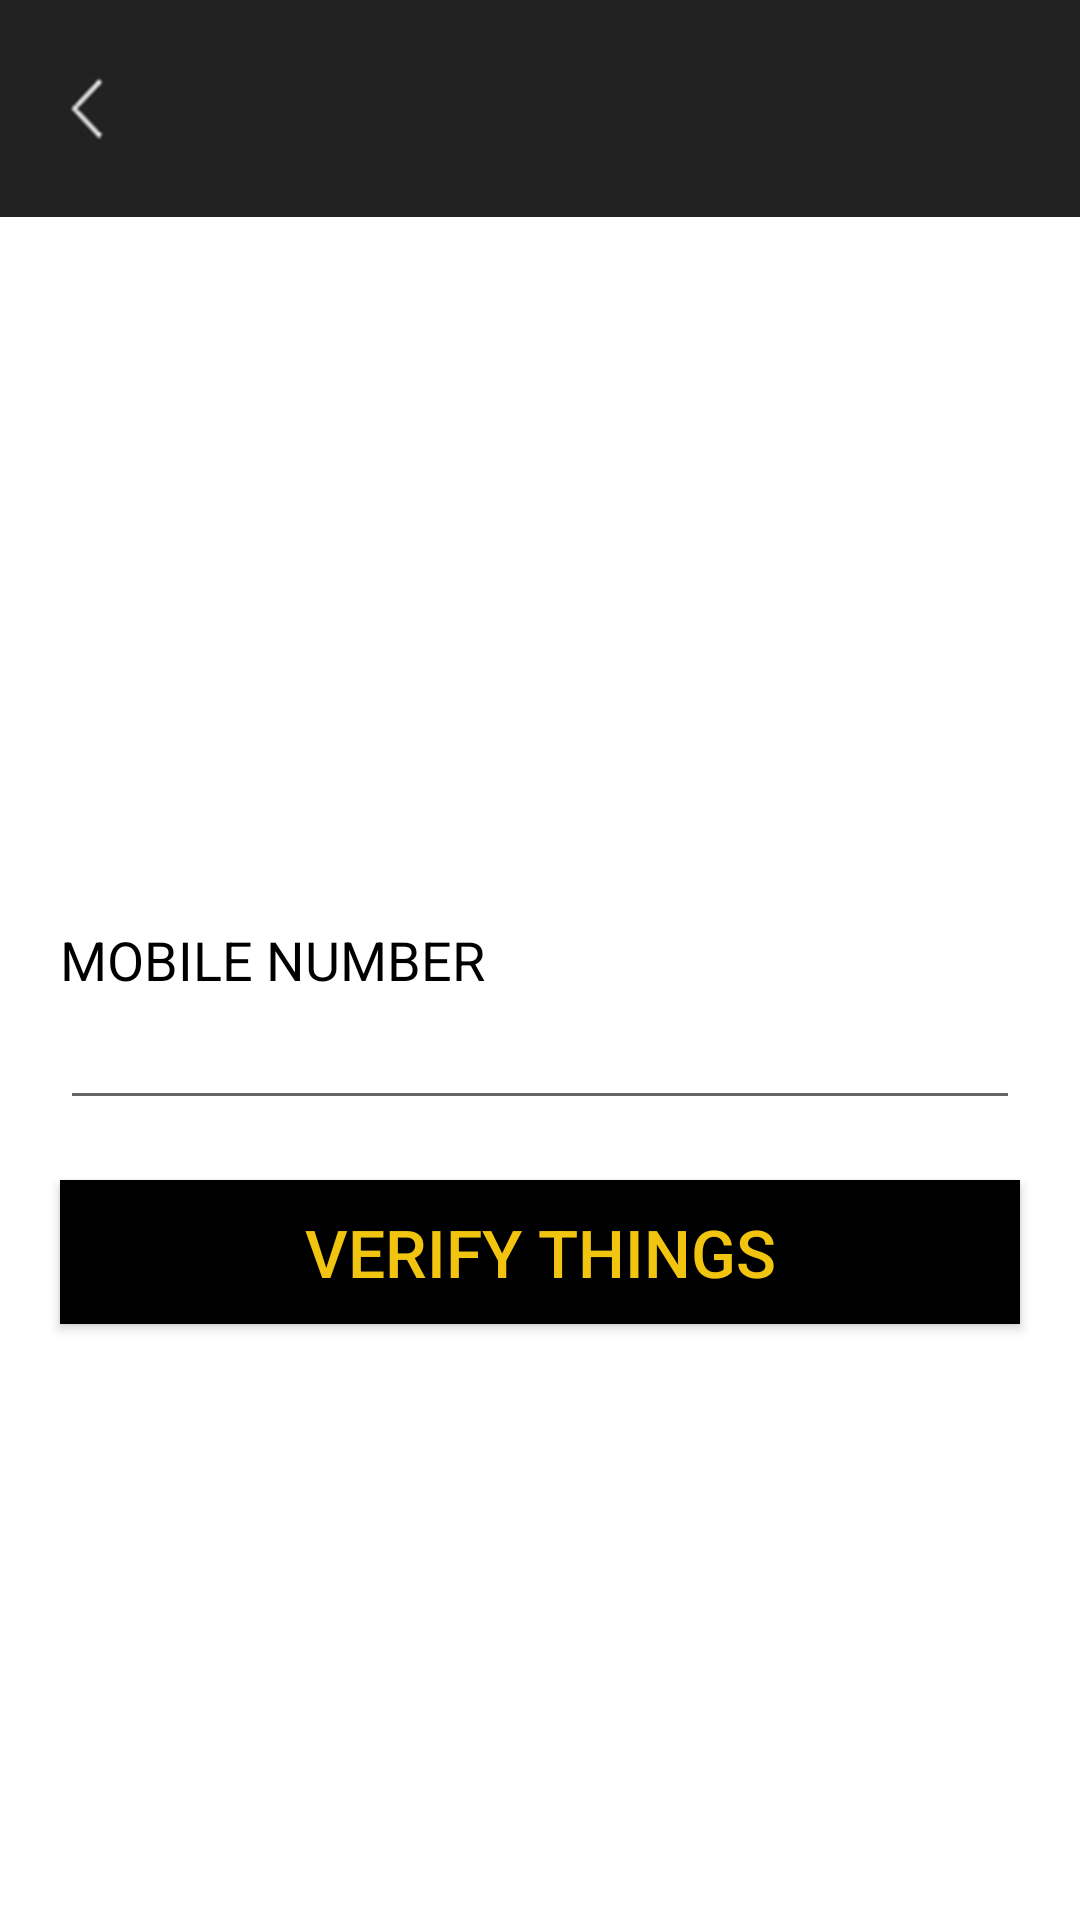

Named icons in this screenshot (1080×1920) and their centers, point (x, y):
Back button to navigate previous activity: point (87, 108)
